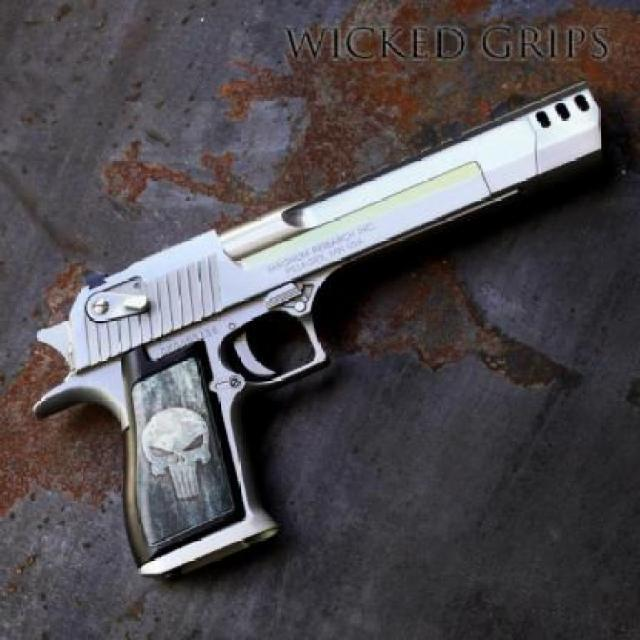gun: (33, 78, 595, 566)
